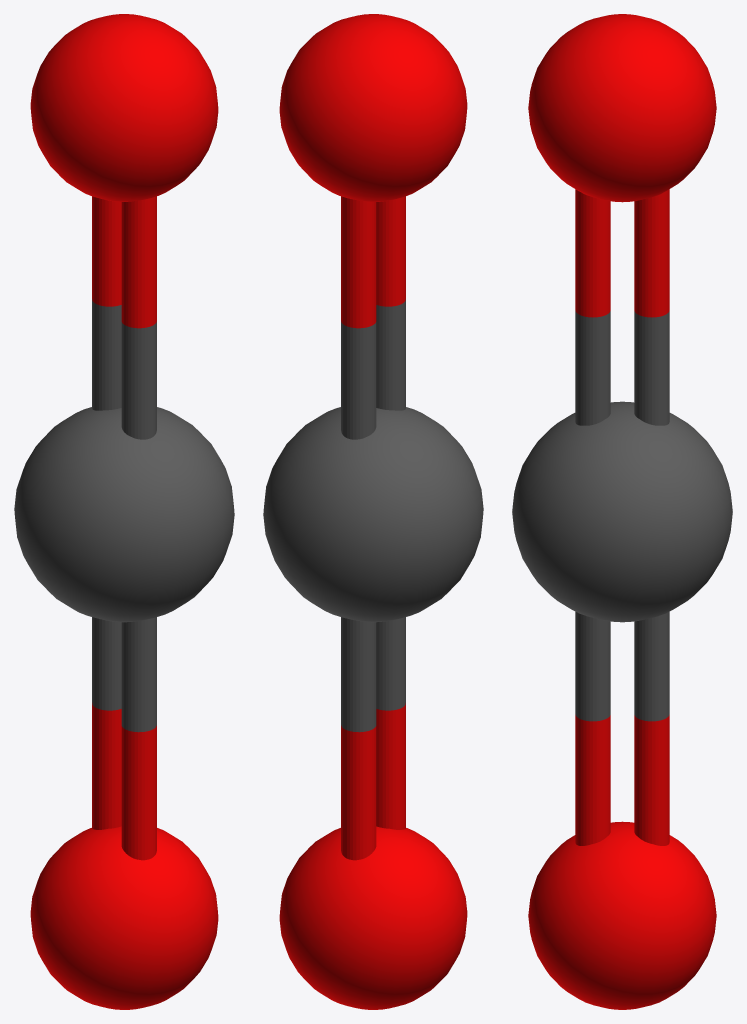
Rendered from carbon_dioxide_symmetric_vibration.glb.
The picture shows the model from 3 angles, left to right: view 1: azimuth 30°, elevation 25°; view 2: azimuth 150°, elevation 25°; view 3: azimuth 270°, elevation 25°; orthographic projection.
Visible parts, largest first — view 1: C01, O02, O03, C01=O02, C01=O03; view 2: C01, O02, O03, C01=O02, C01=O03; view 3: C01, O02, O03, C01=O02, C01=O03.
Boxes of the visible parts, x1,y1,x2,y2 form: C01: [14, 407, 234, 622]; O02: [30, 14, 218, 201]; O03: [30, 826, 218, 1009]; C01=O02: [92, 196, 156, 439]; C01=O03: [92, 617, 156, 860]; C01: [263, 407, 483, 622]; O02: [279, 14, 467, 201]; O03: [279, 826, 467, 1009]; C01=O02: [341, 196, 405, 439]; C01=O03: [341, 617, 405, 860]; C01: [512, 401, 732, 622]; O02: [528, 14, 716, 202]; O03: [528, 821, 716, 1009]; C01=O02: [575, 189, 669, 425]; C01=O03: [575, 611, 669, 845].
Bounding box in the file's own units: 0.75 × 3.67 × 0.75.
